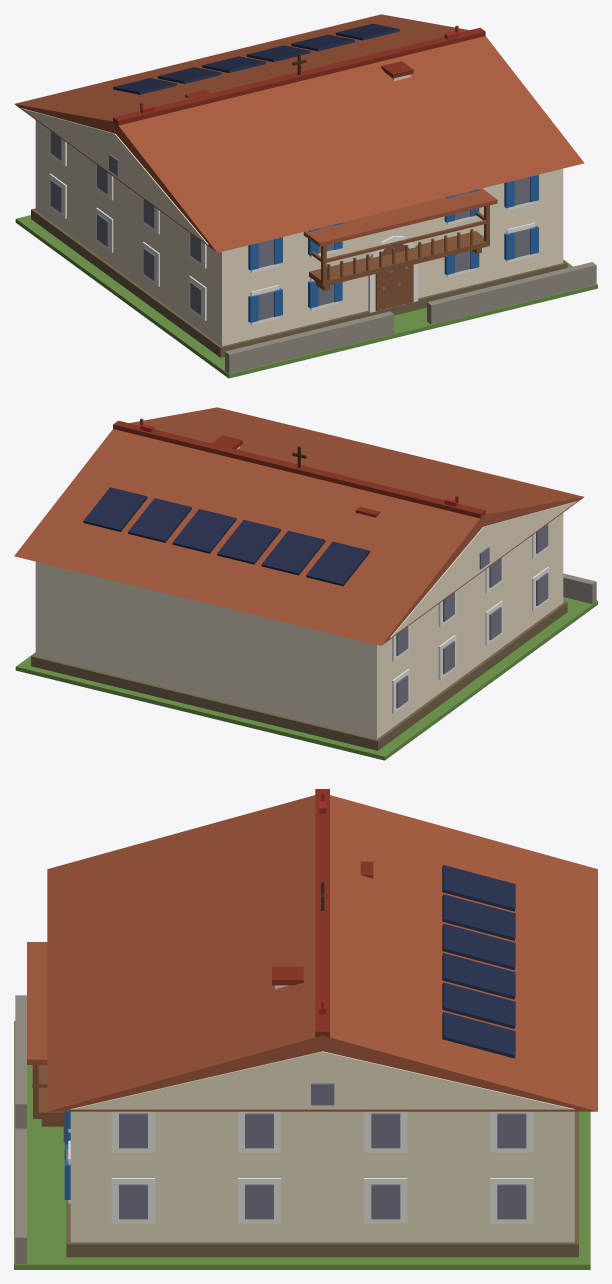
Rendered from house-2x2-2f-andean-a-solar.glb.
The picture shows the model from 3 angles, top to bottom: view 1: azimuth 30°, elevation 25°; view 2: azimuth 150°, elevation 25°; view 3: azimuth 270°, elevation 25°; orthographic projection. The views are drawn at different scales.
Visible parts, largest first — view 1: house-2x2-2f-andean-a-solar; view 2: house-2x2-2f-andean-a-solar; view 3: house-2x2-2f-andean-a-solar.
Boxes of the visible parts, box(x1,y1,x2,y2) form: house-2x2-2f-andean-a-solar: box(14, 14, 597, 378); house-2x2-2f-andean-a-solar: box(14, 407, 597, 760); house-2x2-2f-andean-a-solar: box(14, 789, 597, 1269).
Size of the model in its own units: 2.01 by 1.01 by 2.01.
Materials: 1 (1 with a texture image).
